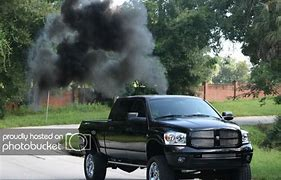smoke: (29, 1, 165, 94)
